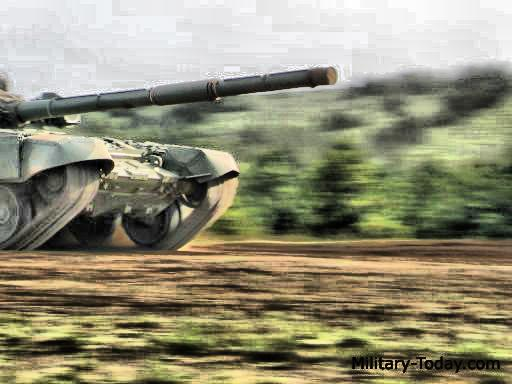tanks: (1, 69, 337, 250)
